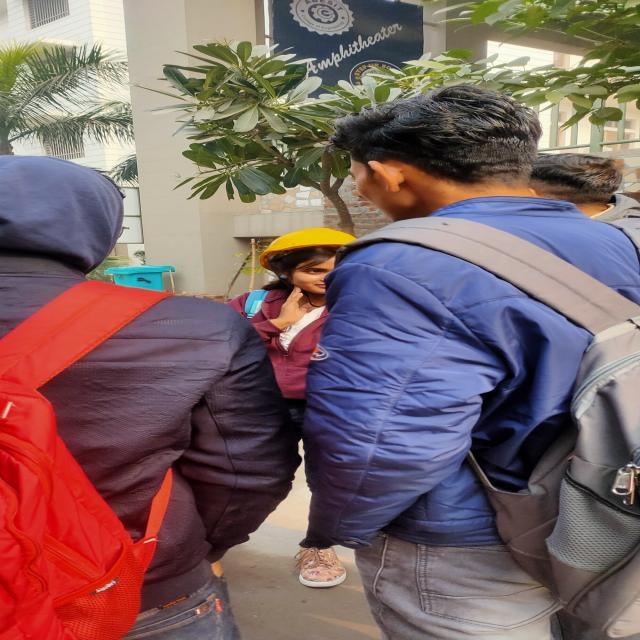unsafe: (335, 83, 558, 640)
